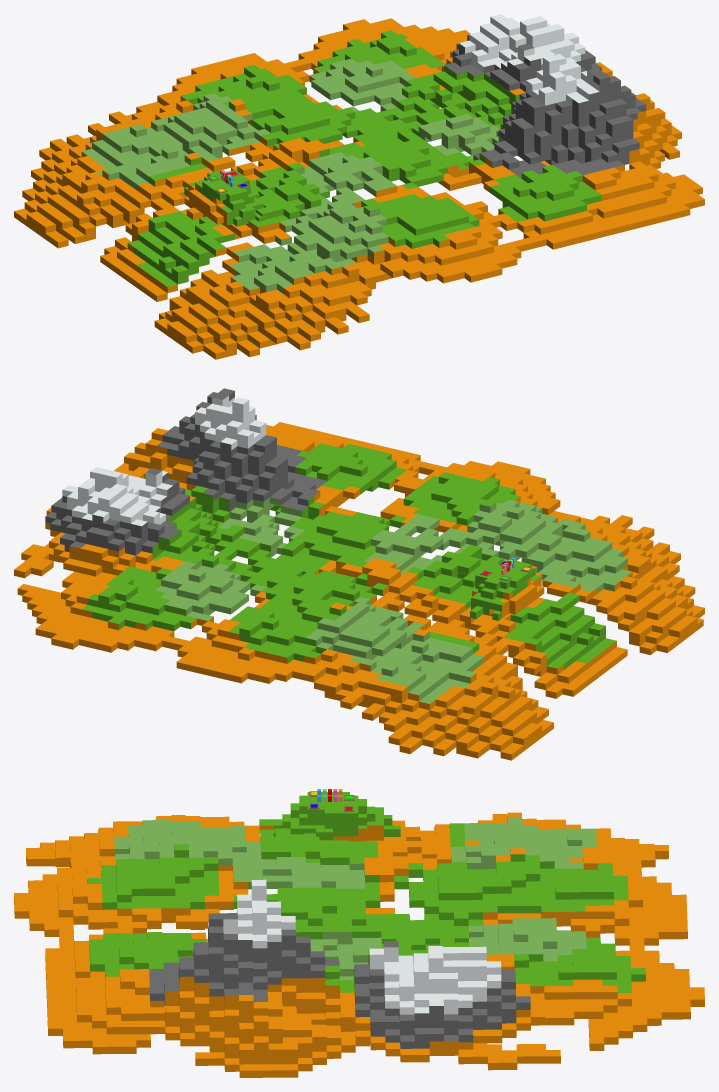
File: environment_new.fbx
3 views of the same model, one above another, from view 1: azimuth 30°, elevation 25°; view 2: azimuth 150°, elevation 25°; view 3: azimuth 270°, elevation 25° (orthographic). The views are drawn at different scales.
Visible parts, largest first — view 1: Landscape.006, Cube; view 2: Landscape.006, Cube; view 3: Landscape.006, Cube.
Boxes of the visible parts, x1,y1,x2,y2 form: Landscape.006: (14, 14, 704, 359); Cube: (184, 170, 264, 226); Landscape.006: (14, 388, 704, 760); Cube: (470, 560, 544, 620); Landscape.006: (14, 812, 704, 1077); Cube: (273, 792, 400, 841).
Bounding box in the file's own units: 21771 × 6226 × 20585.
